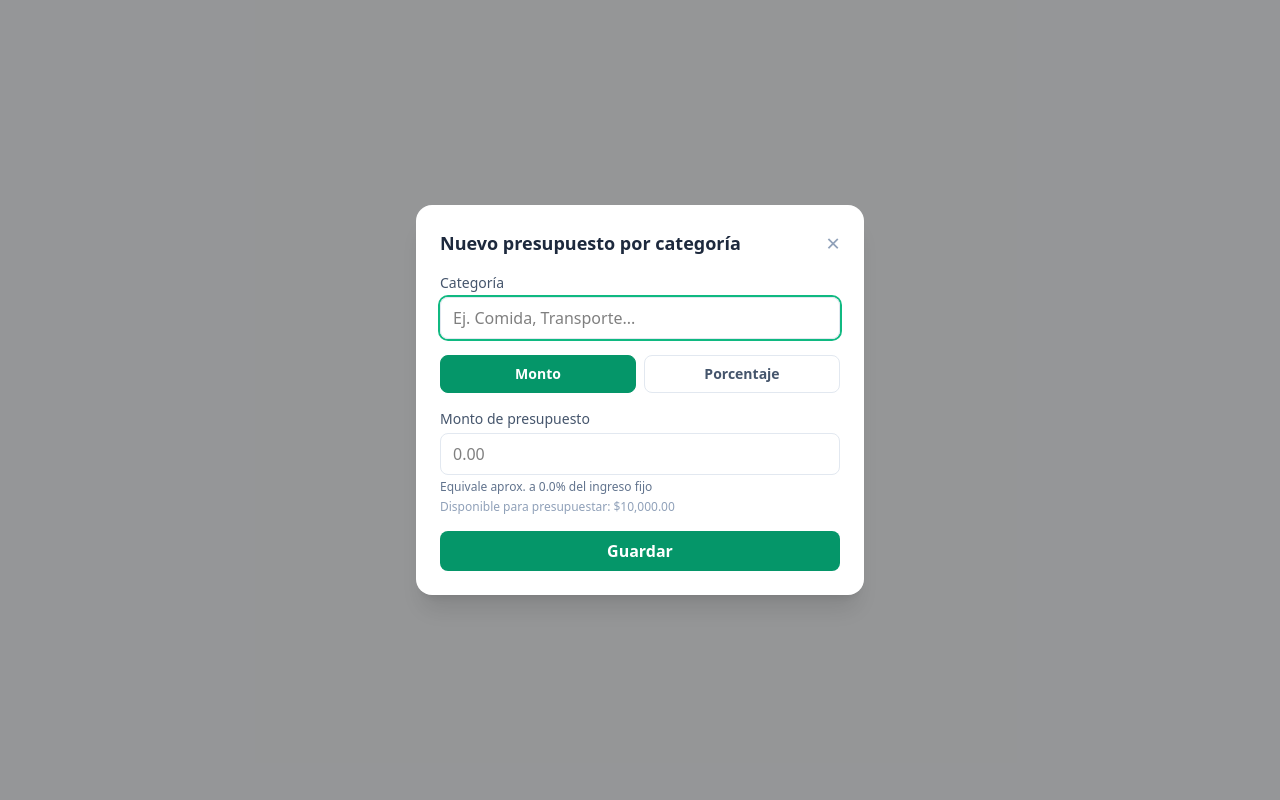
Test: ModalPresupuestoCategoria › cambia a modo porcentaje y muestra el equivalente en dinero
Step 1. Click the button "Porcentaje" → x=742, y=374, box [644,355,840,393]
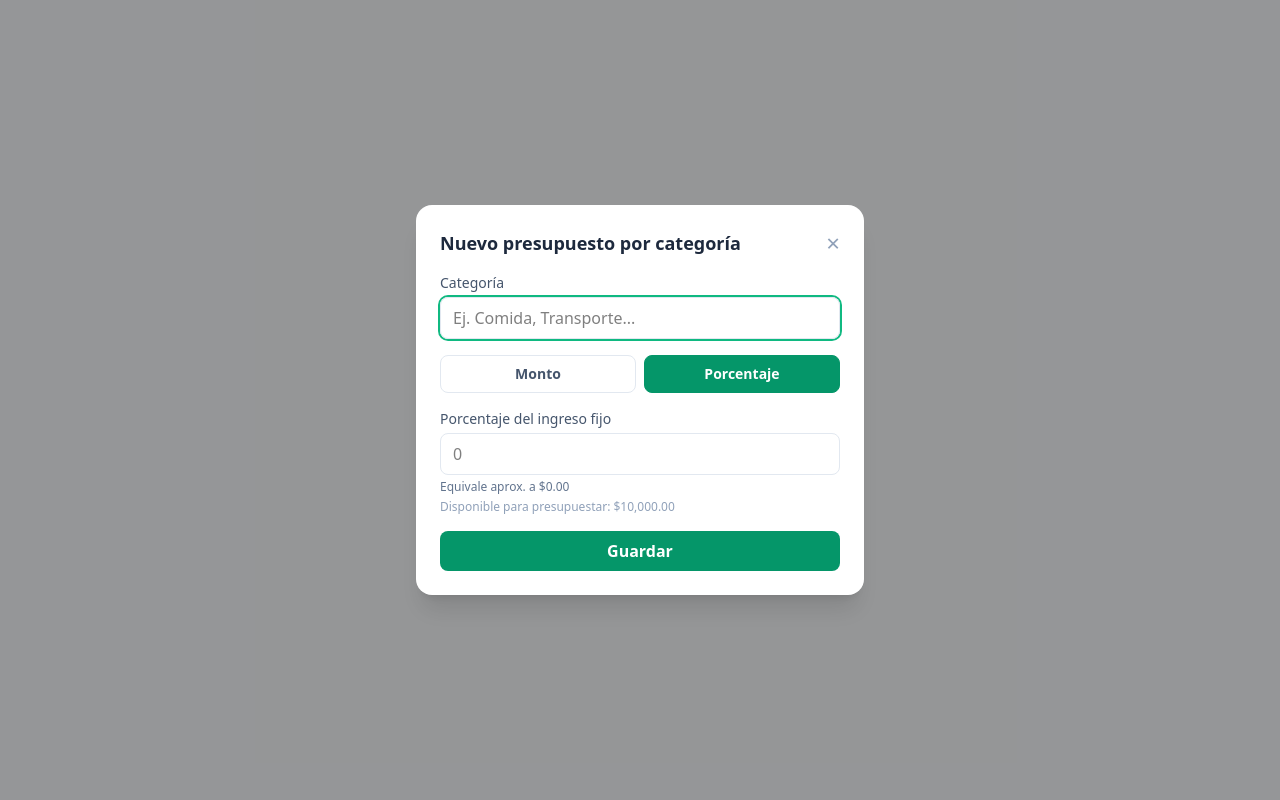
Step 2. Type "10" into the number field with placeholder "0" → x=640, y=454, box [440,433,840,475]
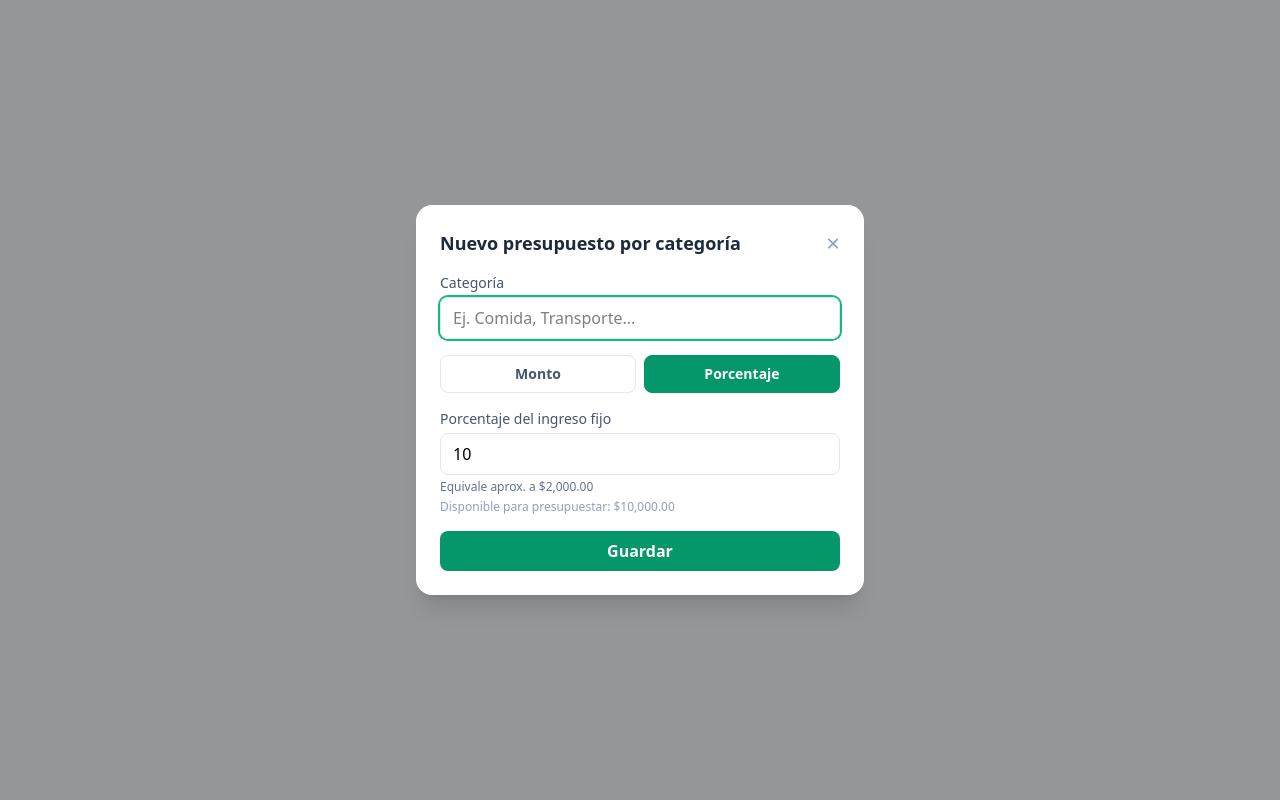
Expected: the text "Equivale aprox. a $2,000.00" is shown, [440,478,593,495]
